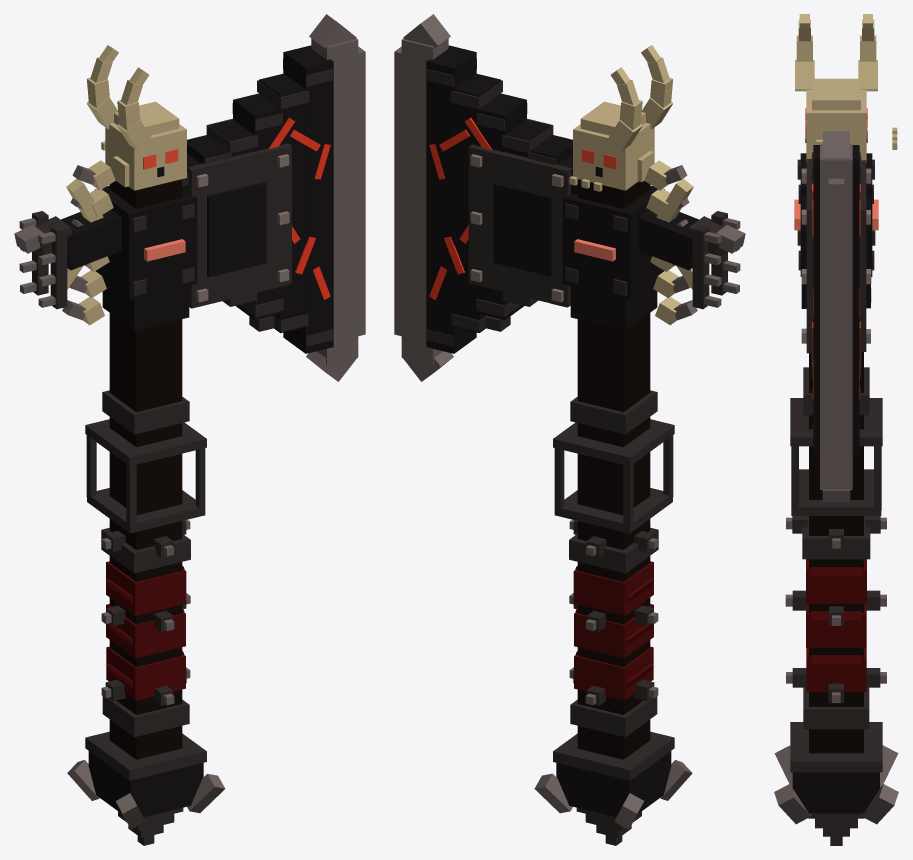
File: doomcleaver.obj
3 views of the same model, side by side, from view 1: azimuth 30°, elevation 25°; view 2: azimuth 150°, elevation 25°; view 3: azimuth 270°, elevation 25° (orthographic). The views are drawn at different scales.
Visible parts, largest first — view 1: haft_1, head_40, plate_front_44, head_37, head_71, plate_front_45, pommel_12, head_34, skull_81, pommel_13, binding_2_10, haft_5 (+20 smaller); view 2: haft_1, head_40, plate_back_51, head_37, head_71, plate_back_52, head_34, pommel_12, skull_81, pommel_13, binding_2_10, haft_5 (+20 smaller); view 3: head_40, haft_1, head_41, head_37, pommel_12, pommel_13, skull_81, heart_cage_143, binding_2_10, heart_cage_142, haft_2, binding_1_8 (+31 smaller).
Part boxes in pixels (bbox=[...]): haft_1: bbox=[109, 179, 182, 759]; head_40: bbox=[311, 38, 358, 365]; plate_front_44: bbox=[187, 143, 291, 308]; head_37: bbox=[283, 45, 333, 353]; head_71: bbox=[95, 185, 197, 300]; plate_front_45: bbox=[207, 182, 266, 277]; pommel_12: bbox=[88, 751, 203, 817]; head_34: bbox=[259, 73, 305, 333]; skull_81: bbox=[105, 123, 186, 190]; pommel_13: bbox=[85, 731, 206, 780]; binding_2_10: bbox=[106, 561, 186, 615]; haft_5: bbox=[102, 283, 189, 330]; haft_1: bbox=[577, 179, 650, 759]; head_40: bbox=[401, 38, 448, 365]; plate_back_51: bbox=[468, 144, 571, 307]; head_37: bbox=[426, 45, 476, 353]; head_71: bbox=[562, 185, 664, 300]; plate_back_52: bbox=[493, 182, 552, 276]; head_34: bbox=[454, 73, 500, 333]; pommel_12: bbox=[556, 751, 671, 817]; skull_81: bbox=[573, 123, 654, 190]; pommel_13: bbox=[553, 731, 674, 780]; binding_2_10: bbox=[573, 561, 653, 615]; haft_5: bbox=[570, 283, 657, 330]; head_40: bbox=[820, 144, 852, 489]; haft_1: bbox=[809, 352, 863, 753]; head_41: bbox=[828, 178, 844, 477]; head_37: bbox=[813, 145, 859, 454]; pommel_12: bbox=[792, 772, 879, 813]; pommel_13: bbox=[790, 722, 882, 772]; skull_81: bbox=[806, 90, 866, 162]; heart_cage_143: bbox=[791, 469, 881, 515]; binding_2_10: bbox=[806, 559, 866, 603]; heart_cage_142: bbox=[790, 398, 882, 446]; haft_2: bbox=[803, 687, 869, 729]; binding_1_8: bbox=[806, 604, 866, 647].
Bounding box in the file's own units: 2.11 × 4.65 × 0.6421.
